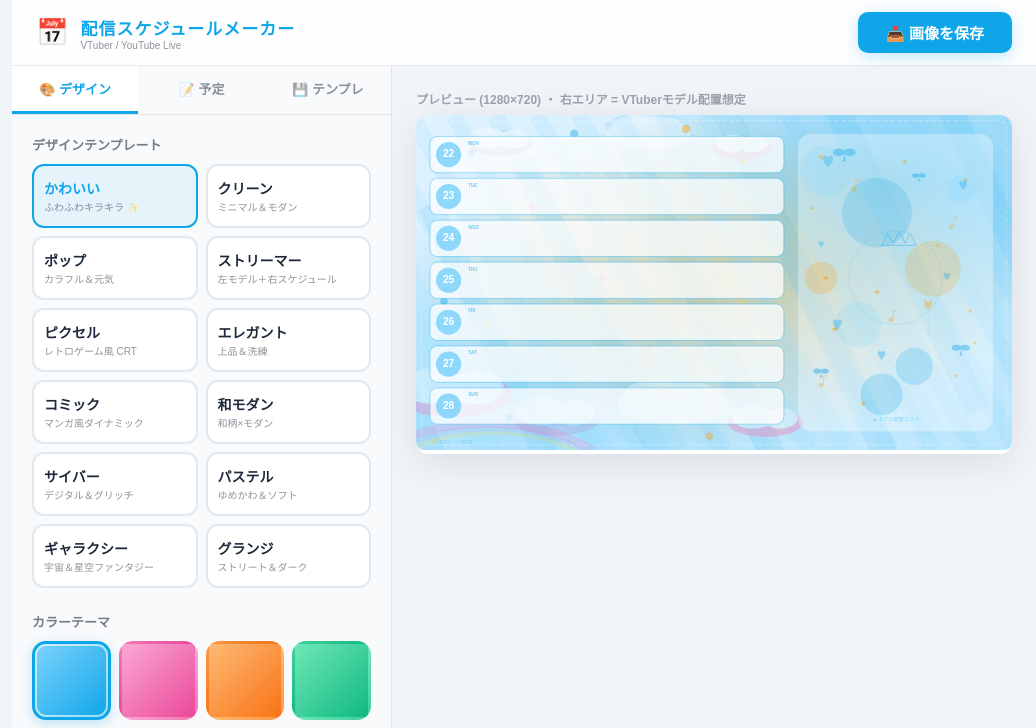
it: WeeklyScheduleMaker（レンダリングスモーク） › 予定タブへ切替でき各曜日の入力欄が出る
The width and height of the screenshot is (1036, 728).
Click the button "📝 予定".
click(201, 90)  # box [138,66,265,114]
(page scrolled)
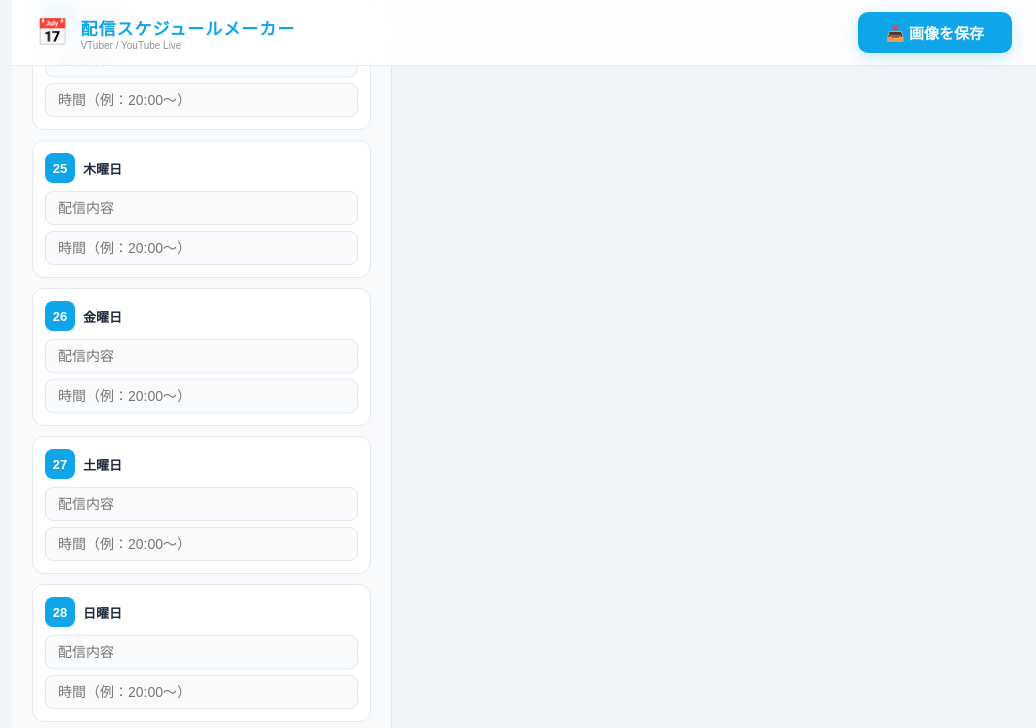
Expected: the text "日曜日" is shown, [83,602,122,622]
Expected: the number of fields with placeholder "配信内容" is 7
